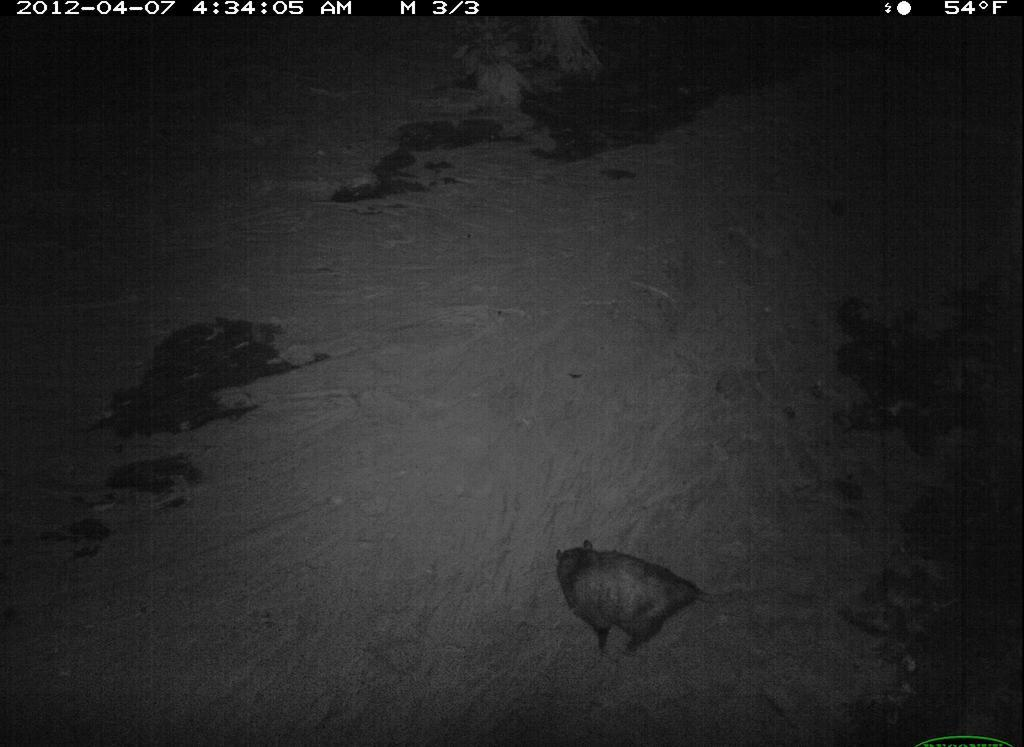opossum: (545, 521, 734, 652)
